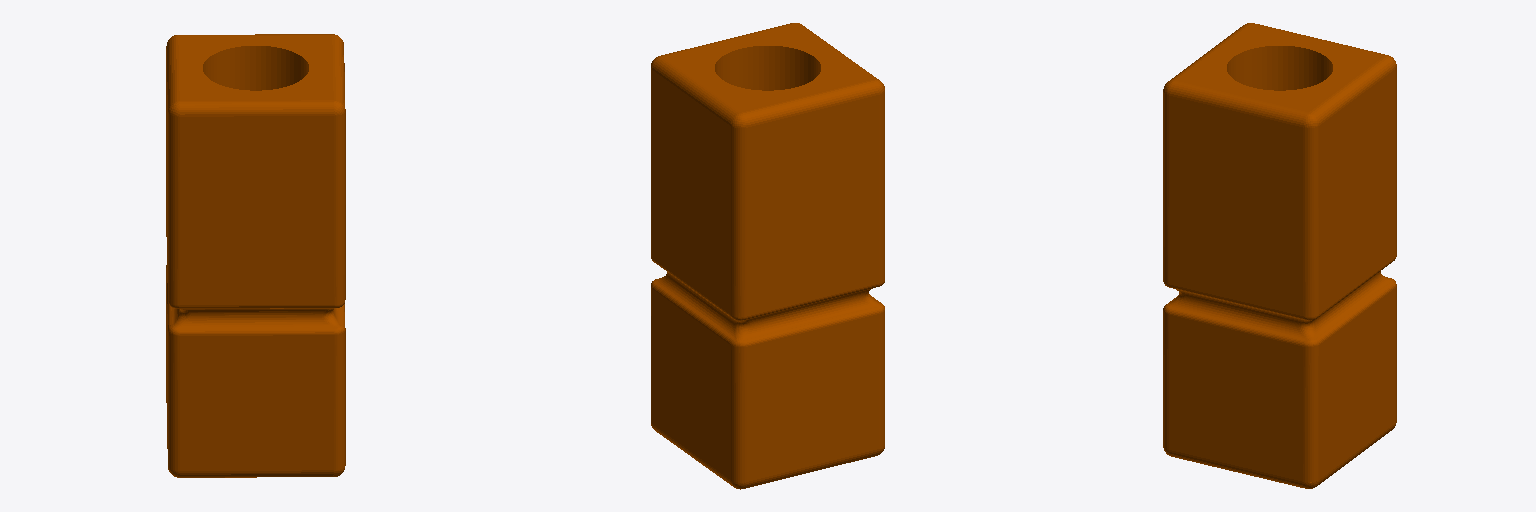
The model's file is grand-carre-trou-jaune.obj.
3 views of the same model, side by side, from view 1: azimuth 30°, elevation 25°; view 2: azimuth 150°, elevation 25°; view 3: azimuth 270°, elevation 25° (orthographic).
Visible parts, largest first — view 1: quarto-pieces.011; view 2: quarto-pieces.011; view 3: quarto-pieces.011.
Part boxes in pixels (left/top/right/bottom): quarto-pieces.011: left=166, top=34, right=345, bottom=477; quarto-pieces.011: left=651, top=23, right=884, bottom=489; quarto-pieces.011: left=1163, top=23, right=1396, bottom=488.
Bounding box in the file's own units: 39.43 × 70 × 39.43.